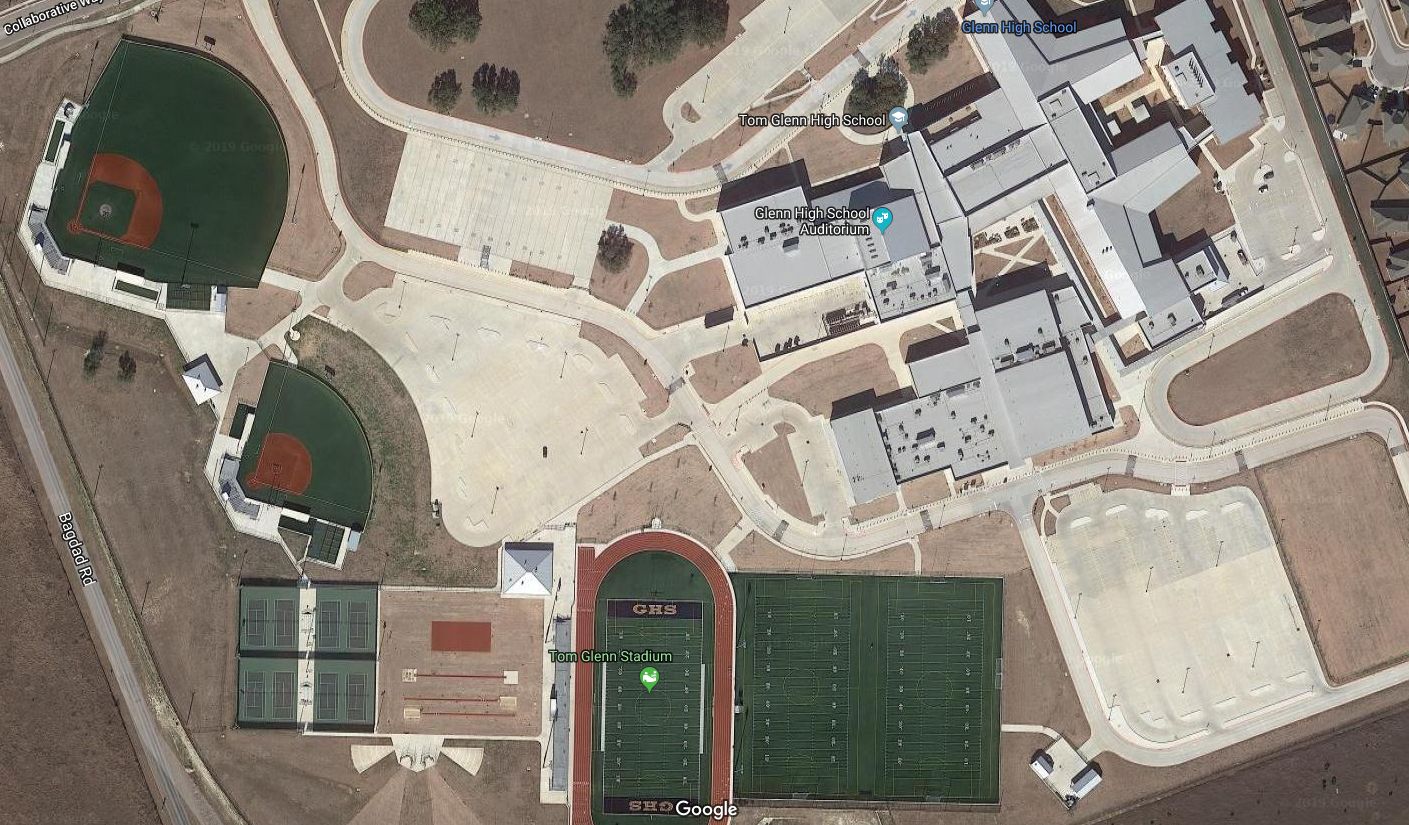baseball: (33, 22, 316, 322), (218, 354, 410, 559)
football: (566, 526, 748, 822)
